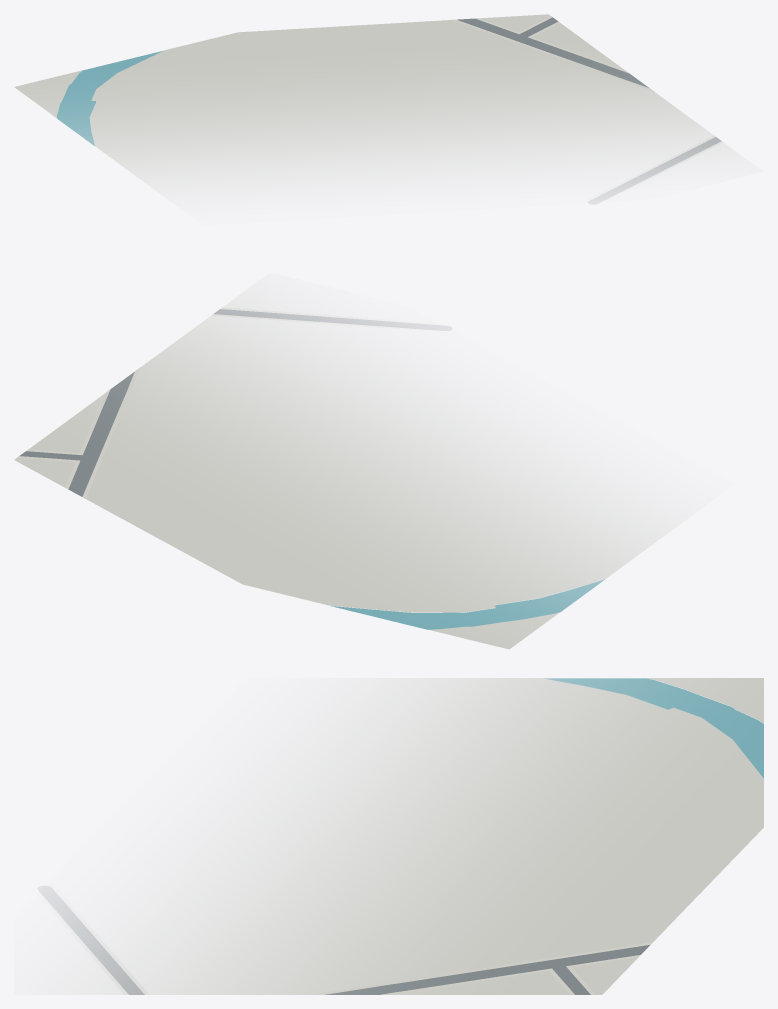
The picture shows the model from 3 angles, top to bottom: view 1: azimuth 30°, elevation 25°; view 2: azimuth 150°, elevation 25°; view 3: azimuth 270°, elevation 25°; orthographic projection. The views are drawn at different scales.
Visible parts, largest first — view 1: city; view 2: city; view 3: city.
Part boxes in pixels (x1,y1,x2,y2): city: (14, 14, 754, 203); city: (14, 279, 692, 649); city: (35, 678, 763, 994).
Bounding box in the file's own units: 500 × 0.4 × 500.
